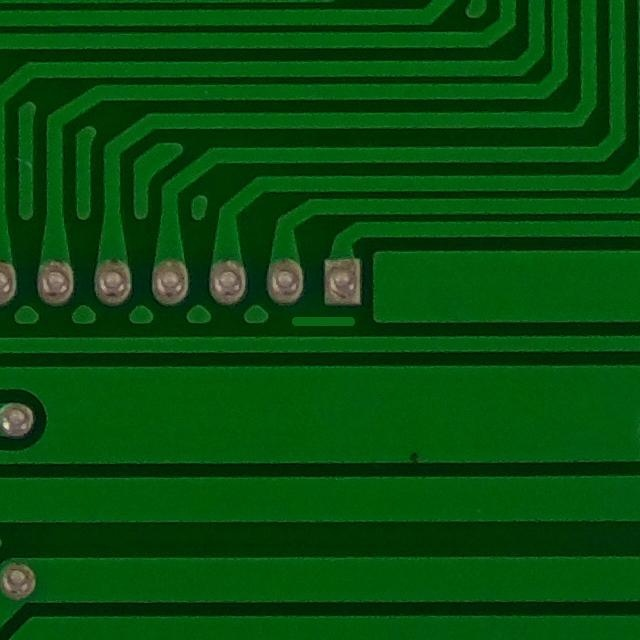spurious_copper: (277, 304, 364, 337)
